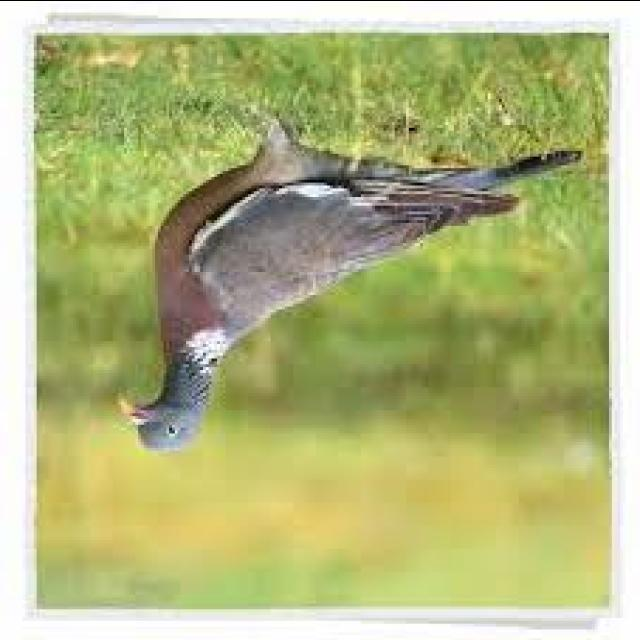pigeon: (106, 110, 580, 462)
